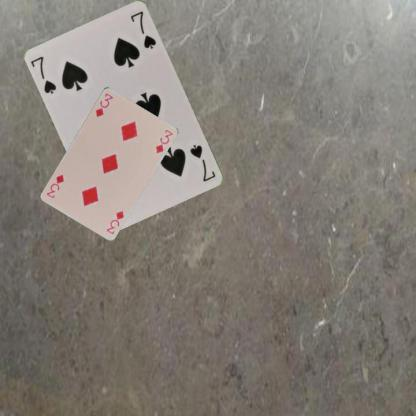3d: (103, 208, 125, 235), (93, 90, 114, 118)
7s: (188, 142, 217, 183), (29, 54, 58, 95)
